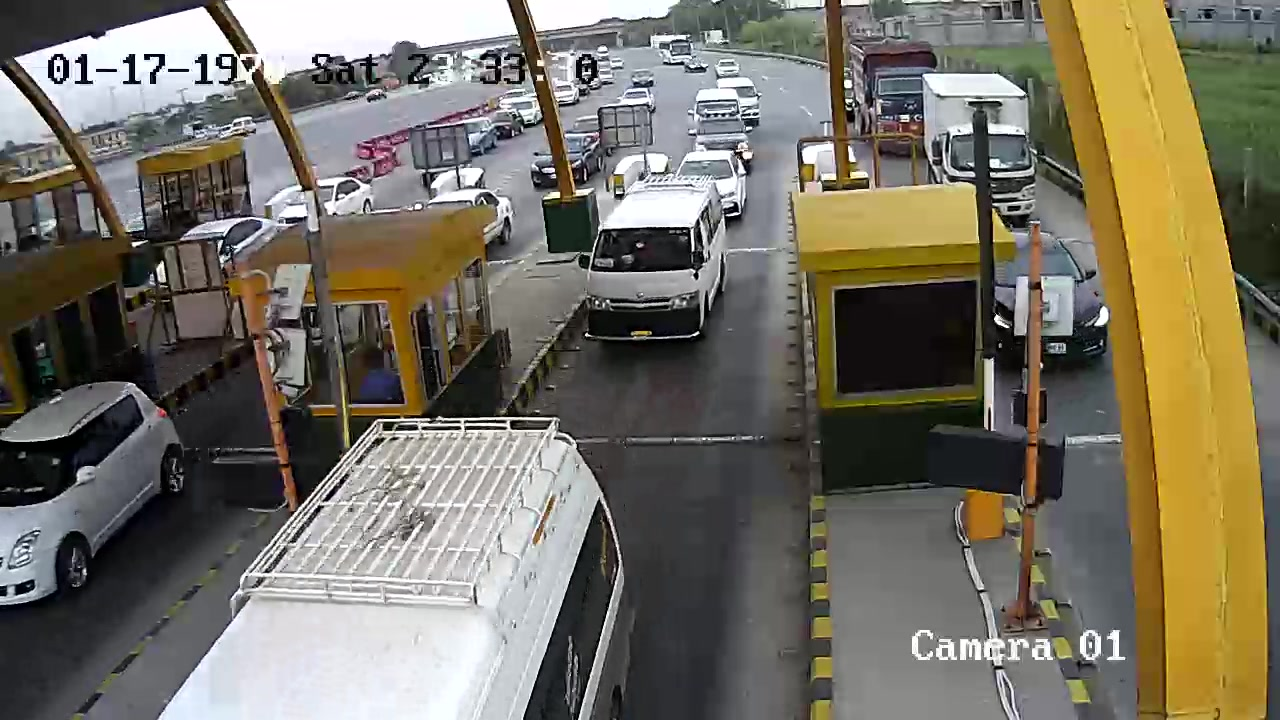F3: (576, 169, 727, 354)
